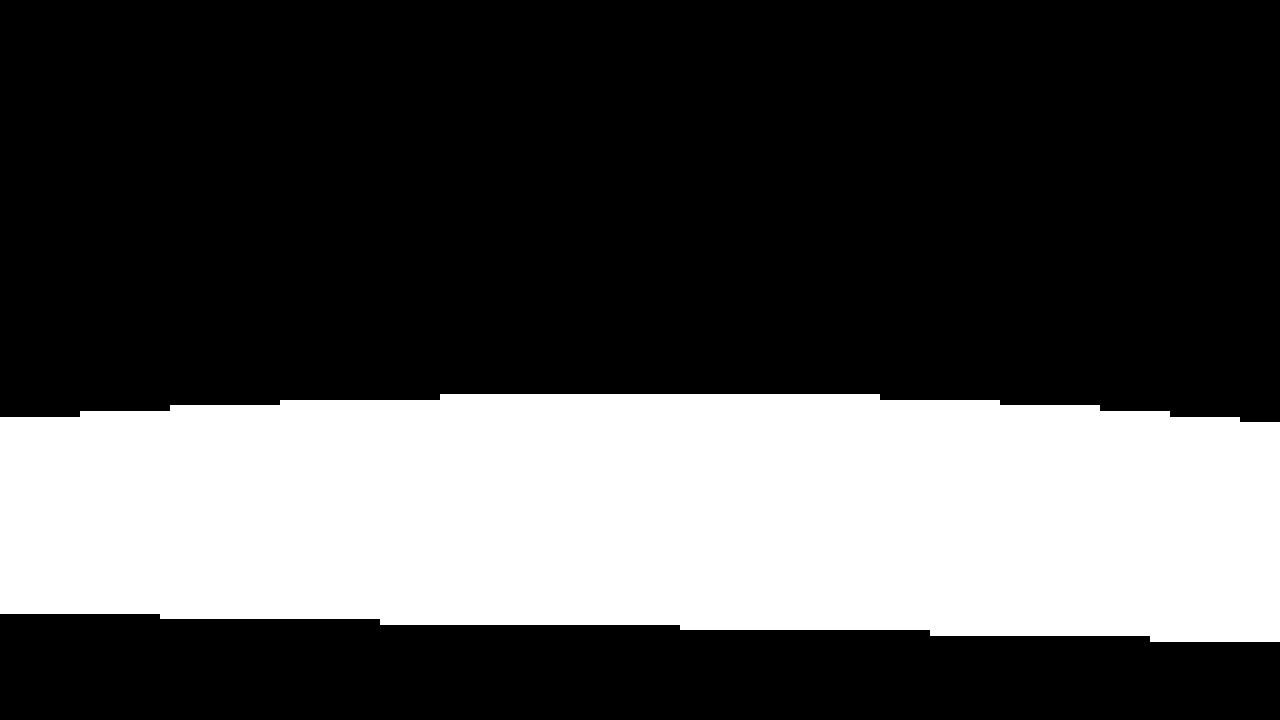Turbine: (2, 400, 1263, 643)
